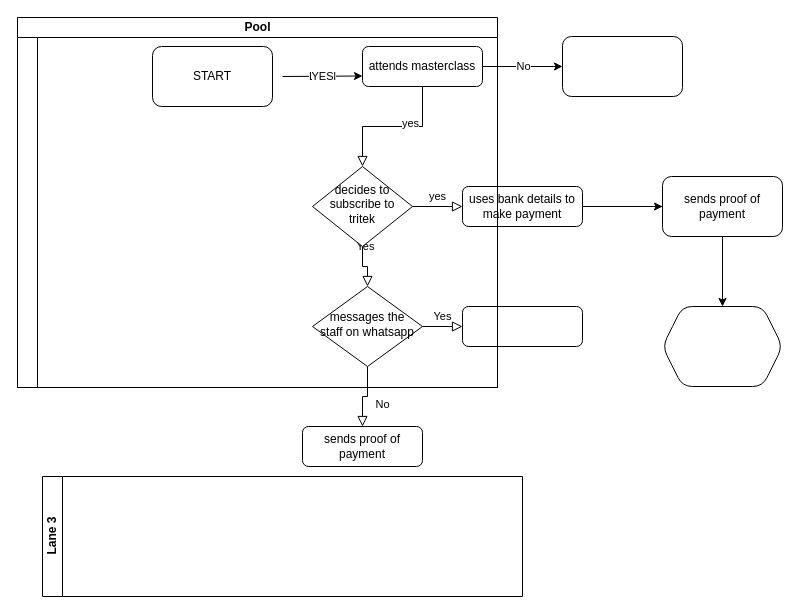
This 800x614 diagram has some shape labels left out. The box of each missing label's shape, as (x1, y1, x2, y2) in pixels:
carries on with masterclass: (562, 36, 682, 96)
confirms payment: (462, 306, 582, 346)
Lane 1: (16, 36, 498, 388)
signed up on the tritek platform (LMS): (662, 306, 782, 386)
